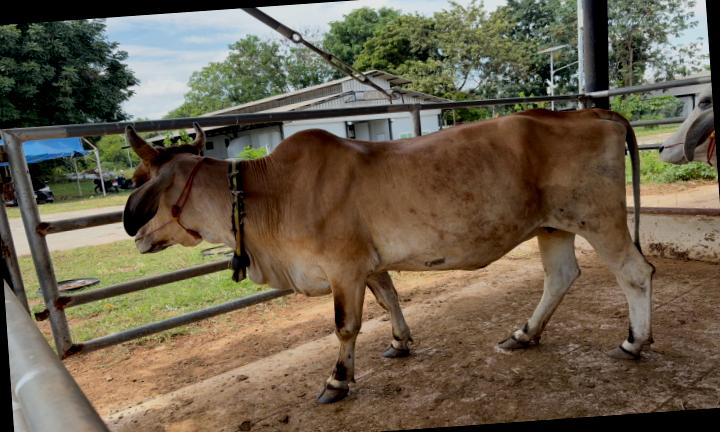Brahman: (123, 108, 653, 402)
